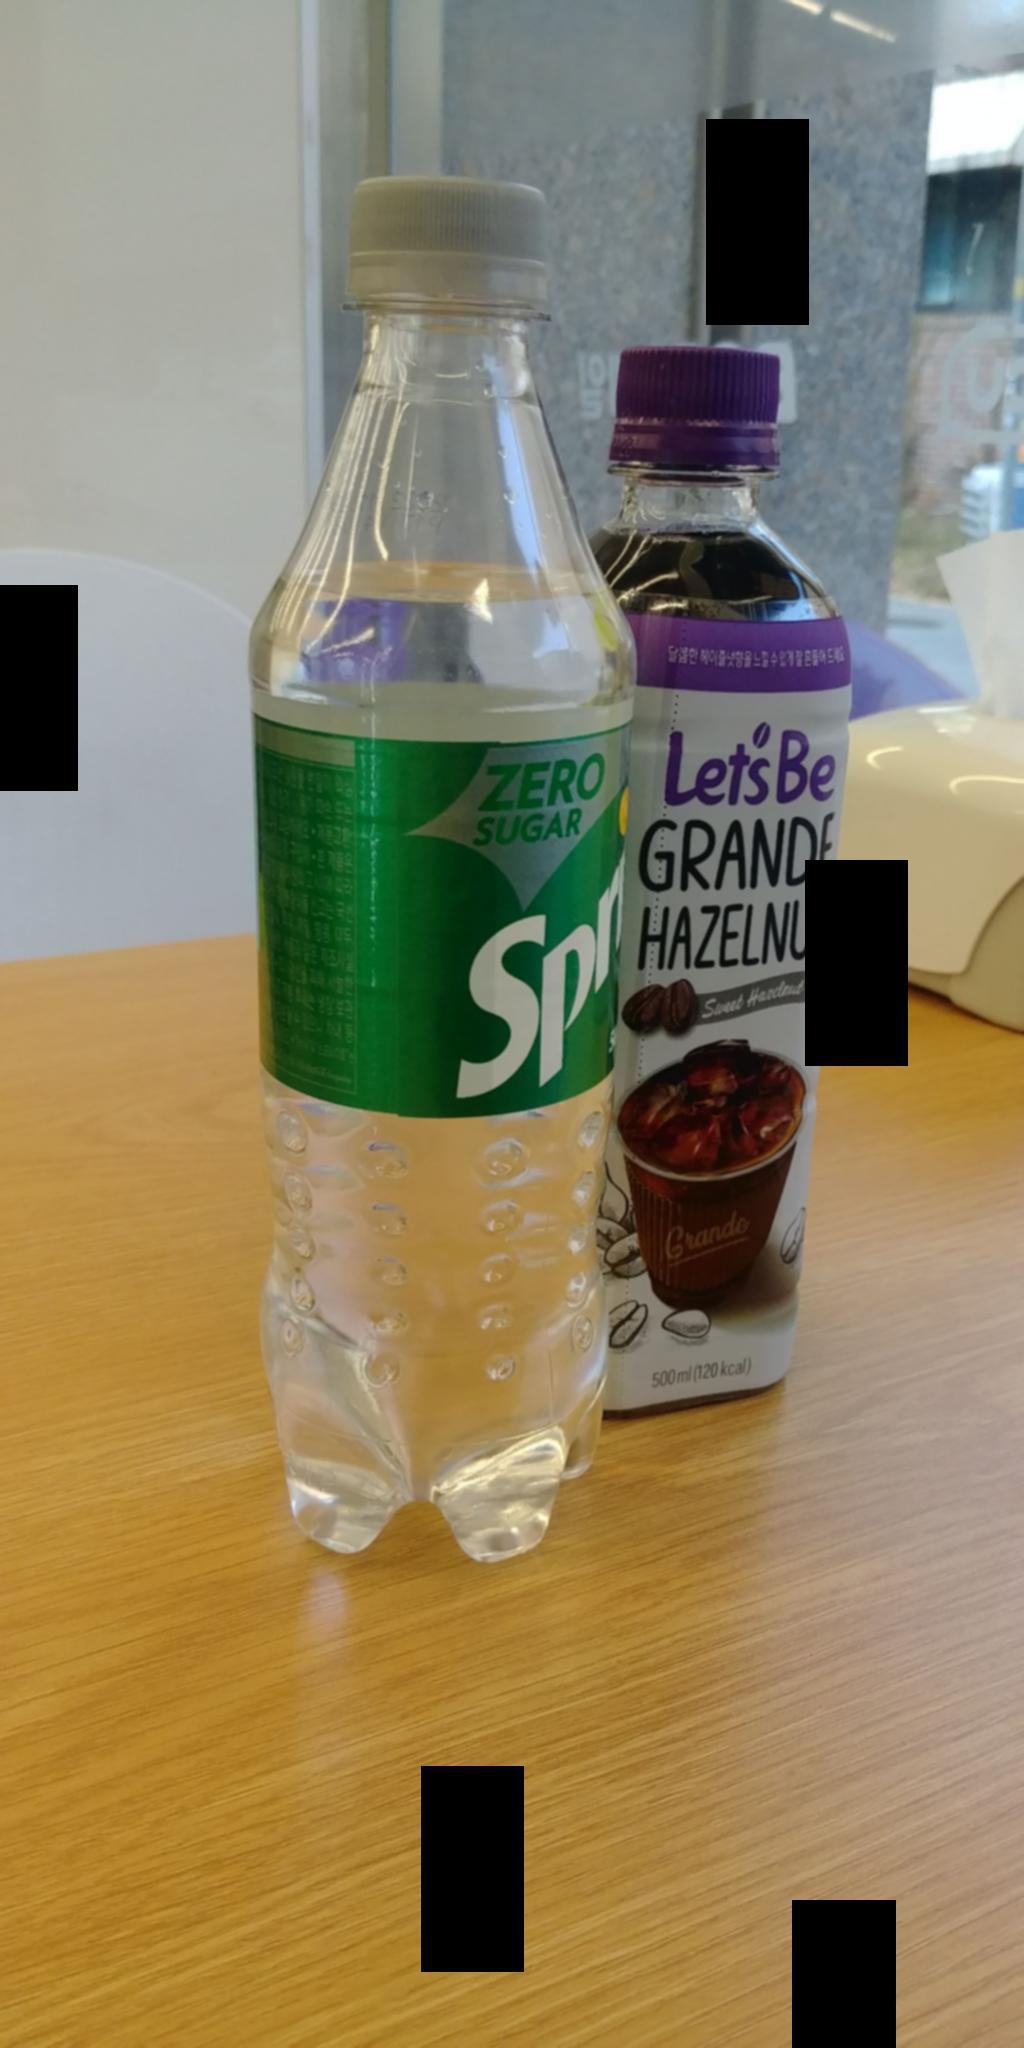letsbe_grande_hazelnut: (583, 340, 853, 1434)
sprite_zero: (234, 153, 606, 1600)
